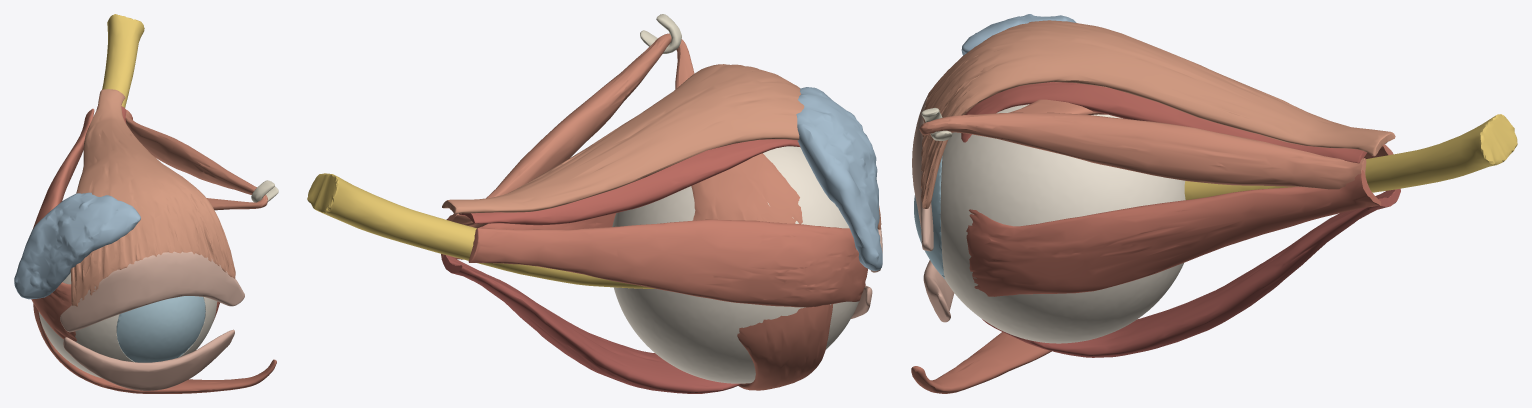
File: eye.glb
3 views of the same model, side by side, from view 1: azimuth 30°, elevation 25°; view 2: azimuth 150°, elevation 25°; view 3: azimuth 270°, elevation 25° (orthographic). The views are drawn at different scales.
Visible parts, largest first — view 1: levator-palpebrae, lacrimal-gland, upper-tarsal-plate, cornea, lower-tarsal-plate, superior-oblique, lateral-rectus, sclera, optic-nerve, inferior-oblique, trochlea; view 2: lateral-rectus, levator-palpebrae, sclera, superior-oblique, lacrimal-gland, optic-nerve, inferior-rectus, superior-rectus, inferior-oblique, medial-rectus, trochlea; view 3: sclera, medial-rectus, levator-palpebrae, superior-oblique, inferior-rectus, optic-nerve, superior-rectus, inferior-oblique, upper-tarsal-plate, cornea, lower-tarsal-plate, lacrimal-gland.
Part boxes in pixels (x1,y1,x2,y2): levator-palpebrae: (70,89,235,306); lacrimal-gland: (14,192,140,299); upper-tarsal-plate: (60,251,244,332); cornea: (116,296,205,362); lower-tarsal-plate: (63,329,234,390); superior-oblique: (125,110,267,210); lateral-rectus: (31,108,94,341); sclera: (38,272,217,378); optic-nerve: (102,14,144,107); inferior-oblique: (33,303,276,393); trochlea: (251,180,278,202); lateral-rectus: (468,219,867,307); levator-palpebrae: (442,64,881,229); sclera: (612,146,858,383); superior-oblique: (448,33,802,228); lacrimal-gland: (796,87,882,270); optic-nerve: (307,173,655,288); inferior-rectus: (441,254,740,393); superior-rectus: (459,139,800,225); inferior-oblique: (737,304,832,390); medial-rectus: (441,213,615,259); trochlea: (640,14,681,53); sclera: (940,104,1185,343); medial-rectus: (966,170,1381,296); levator-palpebrae: (920,20,1395,208); superior-oblique: (919,99,1366,189); inferior-rectus: (982,188,1400,357); optic-nerve: (1184,114,1517,199); superior-rectus: (961,82,1366,163); inferior-oblique: (911,332,1051,393); upper-tarsal-plate: (912,95,933,251); cornea: (914,156,944,278); lower-tarsal-plate: (923,260,954,322); lacrimal-gland: (961,14,1076,55).
Size of the model in its own units: 4.4 by 3.54 by 5.85.
